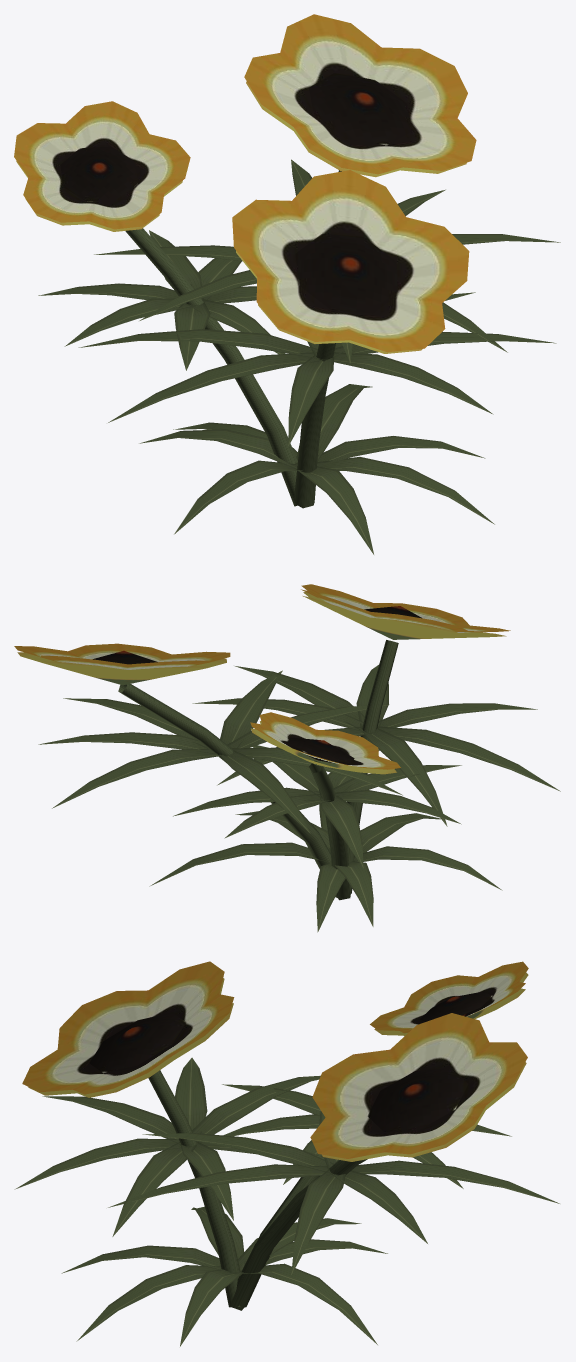
Rendered from flower_yellow.glb.
3 views of the same model, one above another, from view 1: azimuth 30°, elevation 25°; view 2: azimuth 150°, elevation 25°; view 3: azimuth 270°, elevation 25° (orthographic). The views are drawn at different scales.
Parts seen in each view (by area): view 1: flower_yellow_lod0; view 2: flower_yellow_lod0; view 3: flower_yellow_lod0.
Part boxes in pixels (left/top/right/bottom): flower_yellow_lod0: left=14, top=14, right=560, bottom=554; flower_yellow_lod0: left=14, top=584, right=560, bottom=932; flower_yellow_lod0: left=14, top=961, right=559, bottom=1346.
Size of the model in its own units: 0.6023 by 0.3871 by 0.5897.
1 material, 1 textured.
